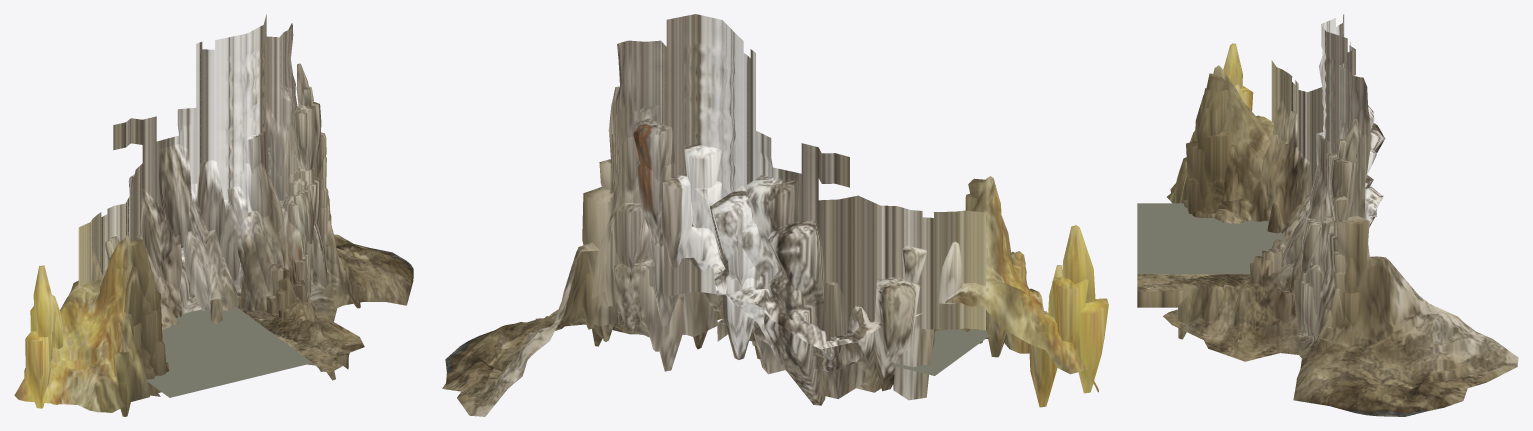
File: tile_2_4.glb
The picture shows the model from 3 angles, left to right: view 1: azimuth 30°, elevation 25°; view 2: azimuth 150°, elevation 25°; view 3: azimuth 270°, elevation 25°; orthographic projection. The views are drawn at different scales.
Visible parts, largest first — view 1: mesh[1].059, mesh[0].082, mesh[0].080, mesh[1].026, mesh[0].038; view 2: mesh[1].059, mesh[0].082, mesh[0].080, mesh[1].026; view 3: mesh[0].080, mesh[1].059, mesh[0].082, mesh[1].026, mesh[0].038.
Boxes of the visible parts, <box> form: mesh[1].059: <box>25,63,360,416</box>; mesh[0].082: <box>78,14,299,287</box>; mesh[0].080: <box>14,234,413,412</box>; mesh[1].026: <box>147,306,312,397</box>; mesh[0].038: <box>236,305,348,369</box>; mesh[1].059: <box>582,86,1108,407</box>; mesh[0].082: <box>591,14,985,330</box>; mesh[0].080: <box>442,176,1098,416</box>; mesh[1].026: <box>874,329,990,375</box>; mesh[0].080: <box>1163,65,1518,416</box>; mesh[1].059: <box>1174,43,1385,353</box>; mesh[0].082: <box>1271,14,1370,256</box>; mesh[1].026: <box>1137,203,1287,274</box>; mesh[0].038: <box>1137,274,1250,307</box>.
Bounding box in the file's own units: 3276 × 2084 × 2317.
Materials: 2 (1 with a texture image).
